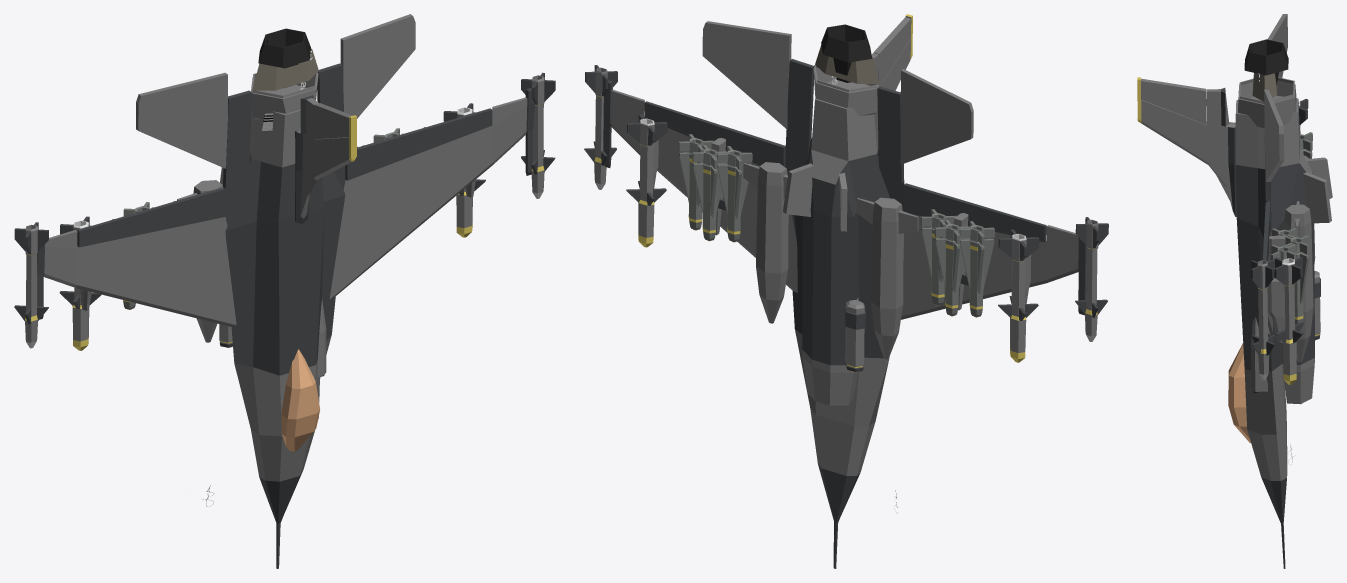
Rendered from airplane.glb.
The picture shows the model from 3 angles, left to right: view 1: azimuth 30°, elevation 25°; view 2: azimuth 150°, elevation 25°; view 3: azimuth 270°, elevation 25°; orthographic projection. The views are drawn at different scales.
Visible parts, largest first — view 1: Cylinder.001; view 2: Cylinder.001; view 3: Cylinder.001.
Part boxes in pixels (x1,y1,x2,y2): Cylinder.001: (14,14,555,568); Cylinder.001: (584,14,1108,568); Cylinder.001: (1137,14,1332,568).
Size of the model in its own units: 0.821 by 0.8017 by 0.273.
